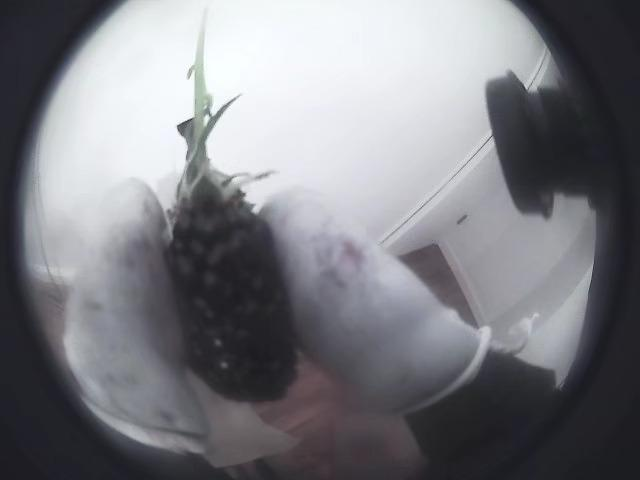berry: (169, 17, 295, 400)
gripper: (260, 192, 489, 415), (63, 179, 206, 437)
lense: (0, 0, 223, 479), (485, 0, 639, 479)
